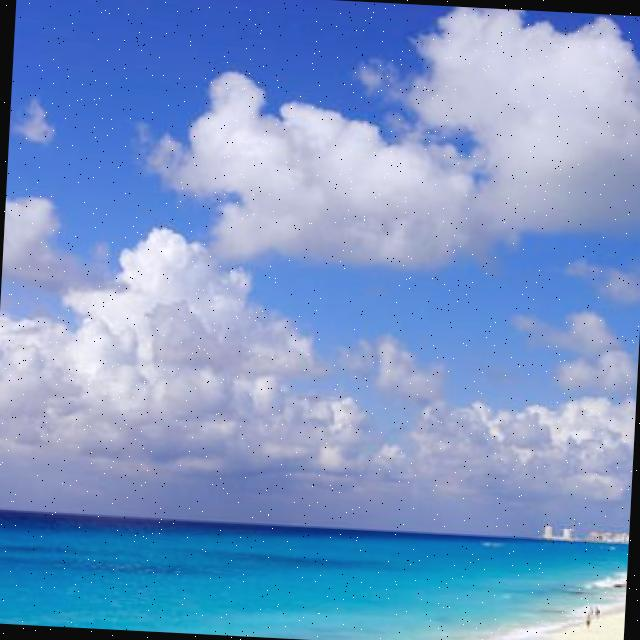Cc: (1, 1, 640, 518)
